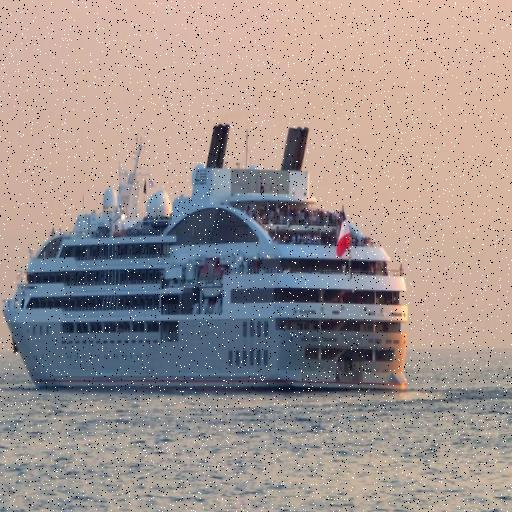cruises: (1, 120, 414, 399)
